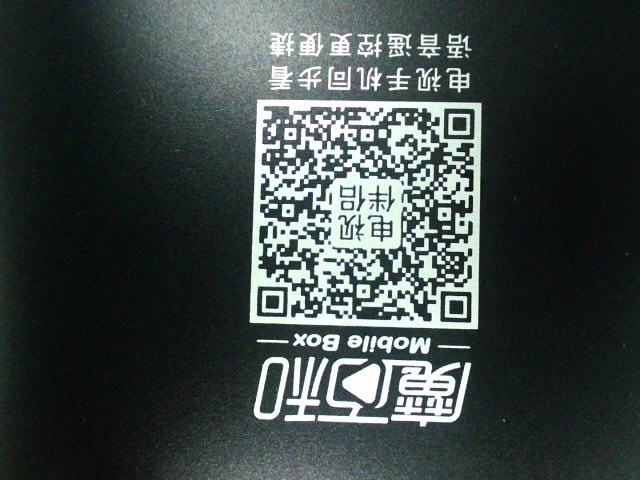AZ_MobileBox: (246, 24, 481, 431)
